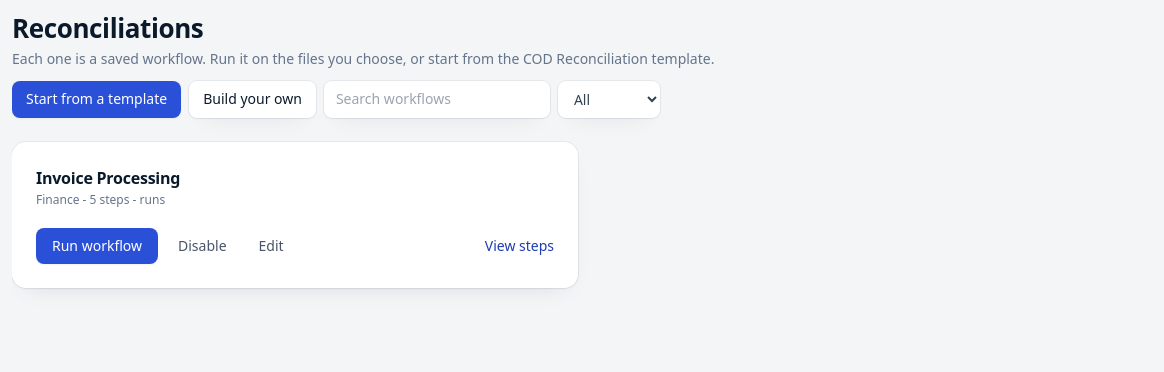
Test: Run goes to the background queue and shows each stage until it finishes
The width and height of the screenshot is (1164, 372).
Click the button "Run workflow": (97, 246) x1=36 y1=228 x2=158 y2=264
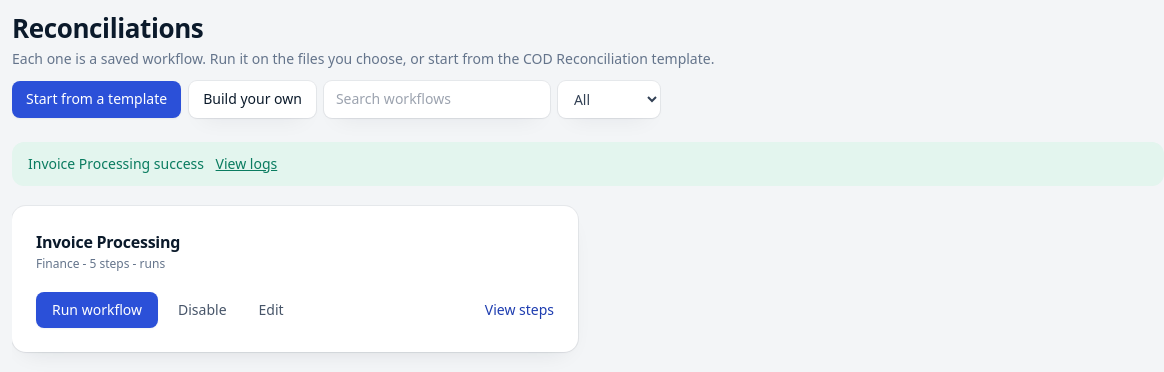
Check: the text "Invoice Processing success View logs" is shown, box x1=12 y1=142 x2=1163 y2=186
